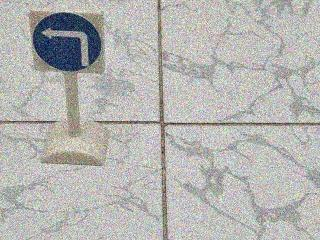left: (28, 10, 107, 74)
